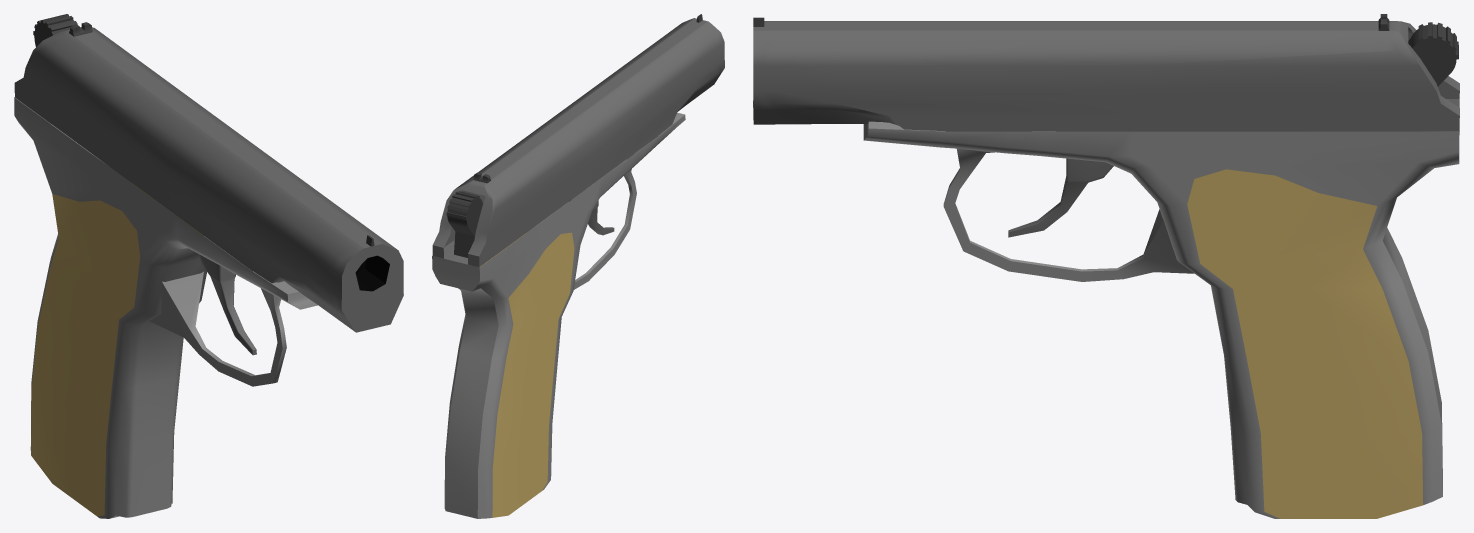
File: 02-Service-pistol.glb
3 views of the same model, side by side, from view 1: azimuth 30°, elevation 25°; view 2: azimuth 150°, elevation 25°; view 3: azimuth 270°, elevation 25° (orthographic). The views are drawn at different scales.
Visible parts, largest first — view 1: Service pistol; view 2: Service pistol; view 3: Service pistol.
Part boxes in pixels (x1,y1,x2,y2): Service pistol: [14, 14, 403, 518]; Service pistol: [432, 14, 724, 518]; Service pistol: [753, 14, 1459, 518].
Size of the model in its own units: 0.0336 by 0.2269 by 0.3.
Materials: 1 (1 with a texture image).
